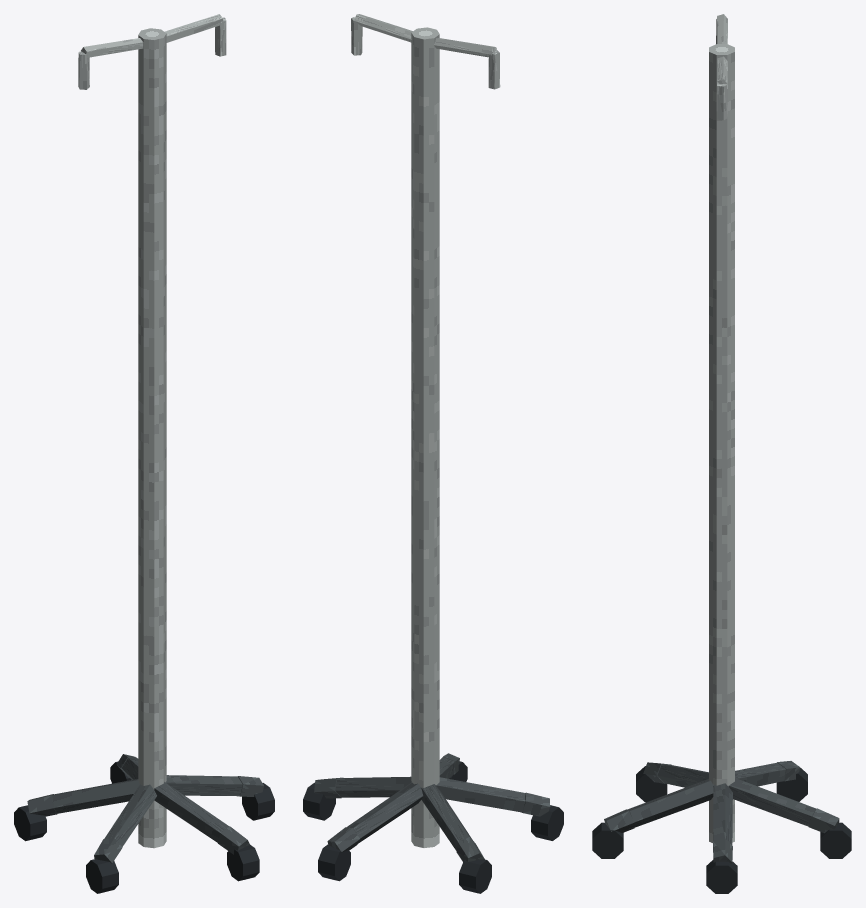
Rendered from f_IV_pole.glb.
3 views of the same model, side by side, from view 1: azimuth 30°, elevation 25°; view 2: azimuth 150°, elevation 25°; view 3: azimuth 270°, elevation 25° (orthographic). The views are drawn at different scales.
Visible parts, largest first — view 1: block_iv-pole, block_caster-leg-1 (×4), block_iv-caster (×4), block_iv-hanging-hooks-2, block_iv-hanging-hooks-3, block_caster-leg-2; view 2: block_iv-pole, block_caster-leg-1 (×4), block_iv-caster (×4), block_iv-hanging-hooks-2, block_iv-hanging-hooks-3, block_caster-leg-2; view 3: block_iv-pole, block_caster-leg-1 (×5), block_iv-caster (×5).
Boxes of the visible parts, x1=… form: block_iv-pole: x1=138, y1=28, x2=166, y2=848; block_caster-leg-1 (×4): x1=52, y1=775, x2=242, y2=846; block_iv-caster (×4): x1=14, y1=783, x2=274, y2=893; block_iv-hanging-hooks-2: x1=81, y1=38, x2=143, y2=57; block_iv-hanging-hooks-3: x1=164, y1=14, x2=223, y2=42; block_caster-leg-2: x1=218, y1=826, x2=249, y2=854; block_iv-pole: x1=411, y1=27, x2=439, y2=847; block_caster-leg-1 (×4): x1=335, y1=776, x2=525, y2=850; block_iv-caster (×4): x1=303, y1=782, x2=563, y2=893; block_iv-hanging-hooks-2: x1=434, y1=38, x2=496, y2=57; block_iv-hanging-hooks-3: x1=354, y1=14, x2=412, y2=42; block_caster-leg-2: x1=327, y1=827, x2=359, y2=852; block_iv-pole: x1=709, y1=44, x2=734, y2=842; block_caster-leg-1 (×5): x1=627, y1=762, x2=816, y2=844; block_iv-caster (×5): x1=592, y1=766, x2=851, y2=893.
Size of the model in its own units: 0.4722 by 1.75 by 0.5193.
1 material, 1 textured.
